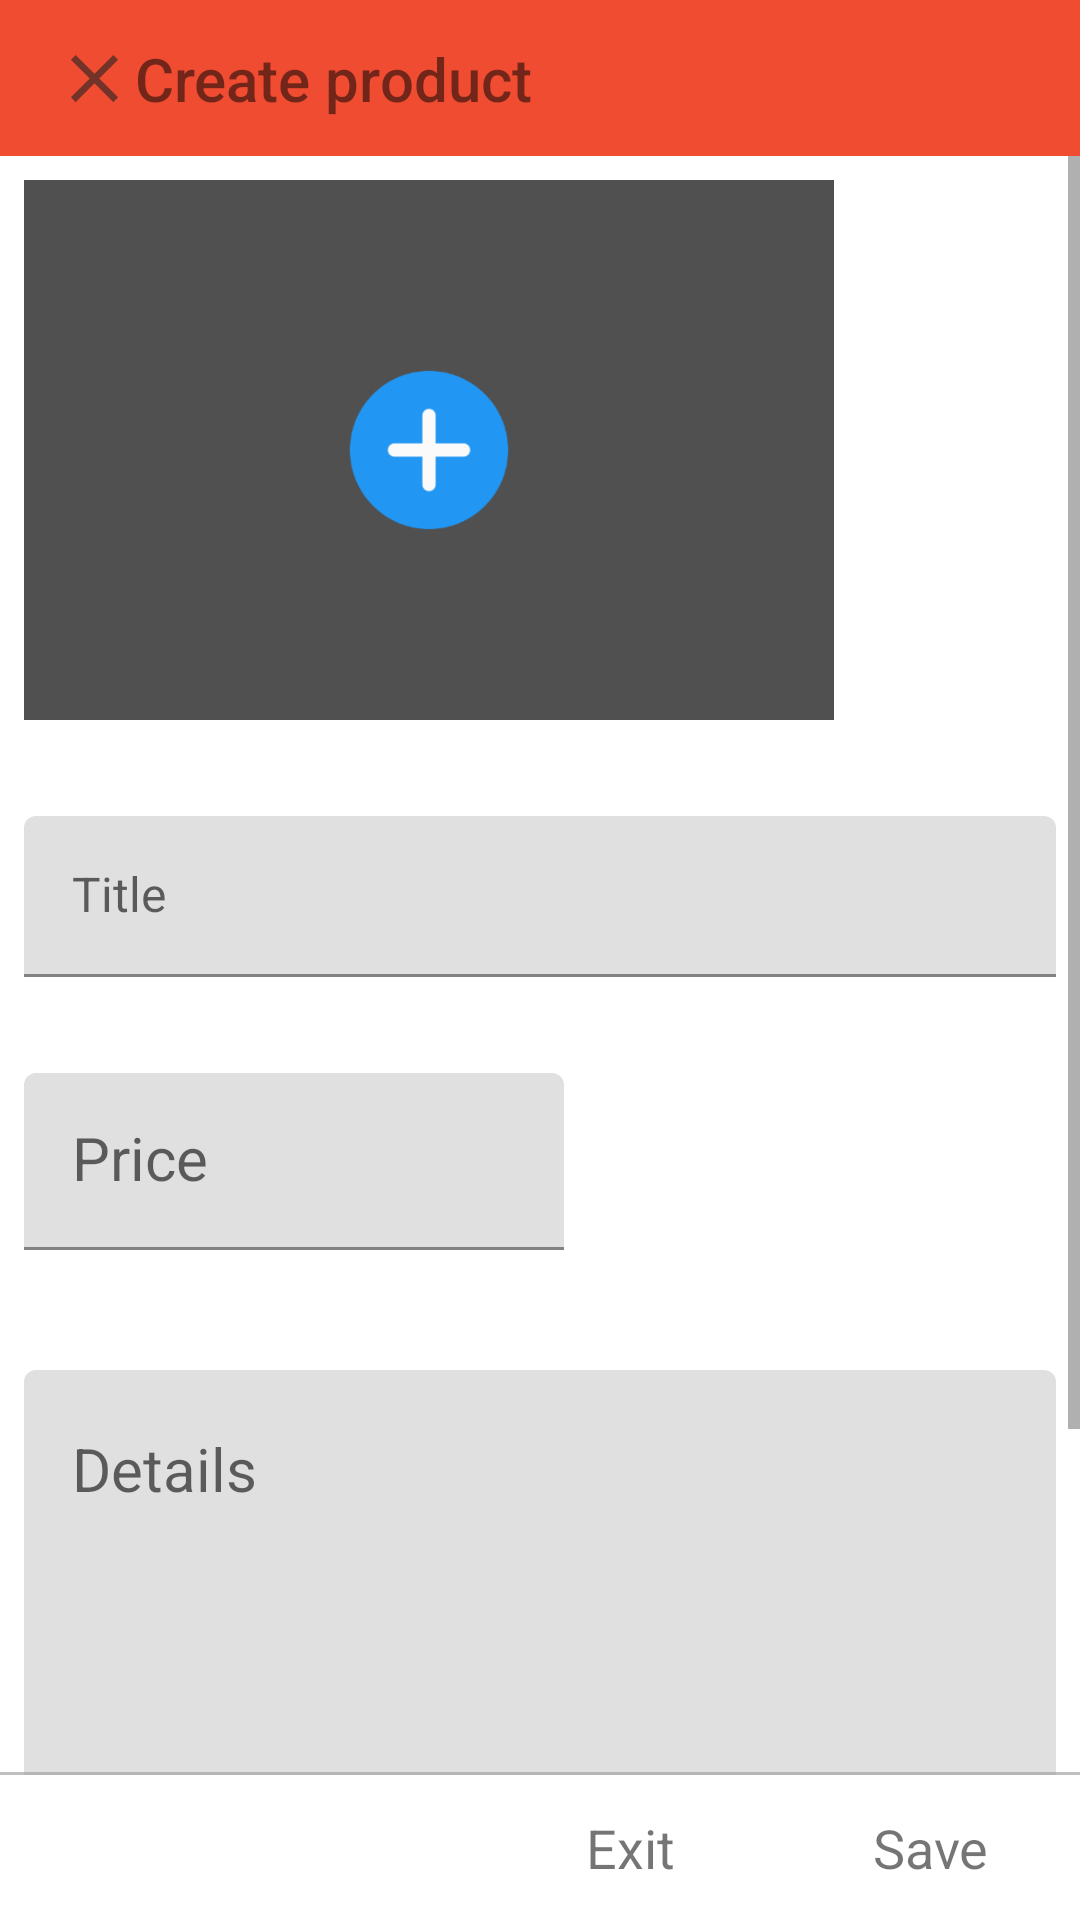

Where icons sit on this 1080px x 1920px app screen, as (x1, y1, x2, y2):
close: (71, 55, 118, 102)
